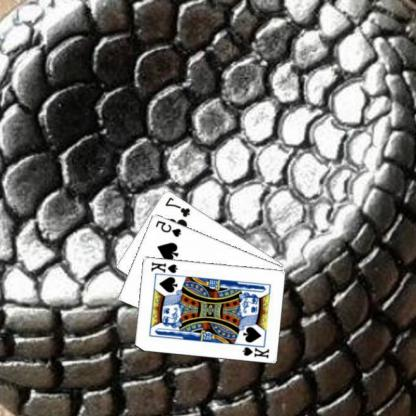5S: (154, 218, 184, 238)
7C: (165, 194, 194, 218)
KS: (240, 341, 272, 359), (150, 258, 181, 274)
